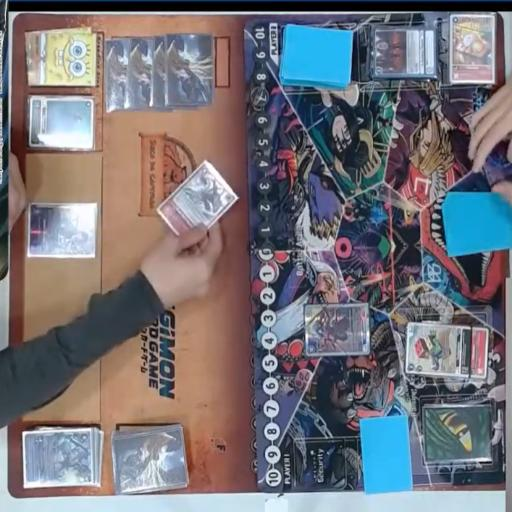card: (157, 165, 238, 243), (19, 428, 93, 491), (27, 91, 95, 153), (27, 204, 99, 259), (303, 303, 371, 359), (405, 327, 472, 377), (448, 15, 496, 83), (373, 26, 434, 79), (473, 324, 494, 382)
